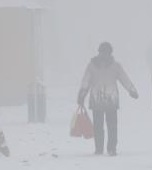person: (67, 40, 140, 157)
